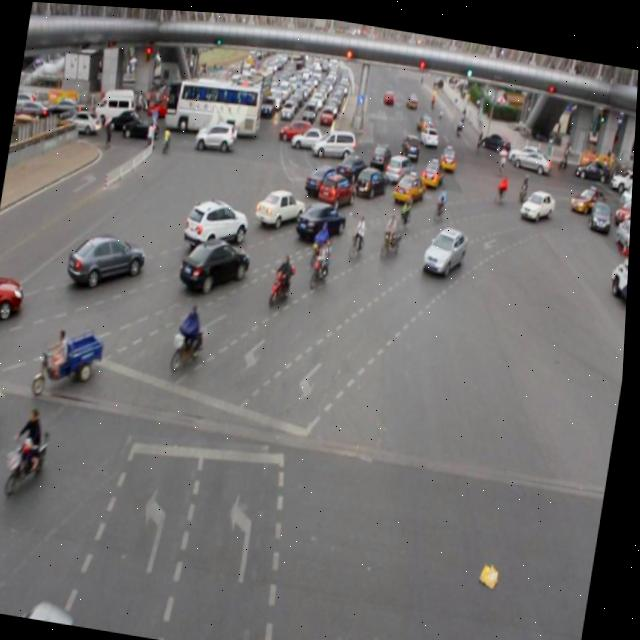car: (69, 224, 151, 287), (181, 232, 254, 290), (185, 190, 252, 248), (422, 215, 472, 272), (297, 194, 348, 240), (255, 180, 308, 224), (0, 261, 30, 322), (518, 176, 558, 218), (317, 166, 356, 207), (305, 155, 343, 194), (392, 162, 427, 203), (354, 157, 388, 196), (384, 146, 417, 181), (335, 146, 367, 179), (419, 148, 446, 184)
